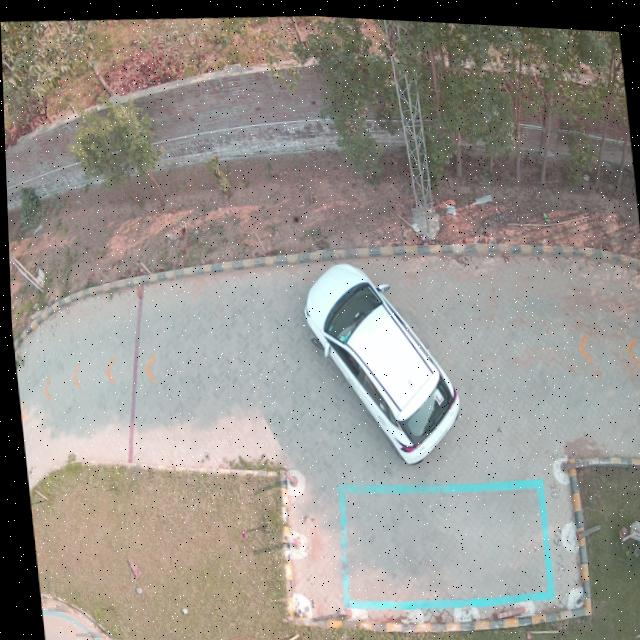car: (300, 259, 457, 461)
